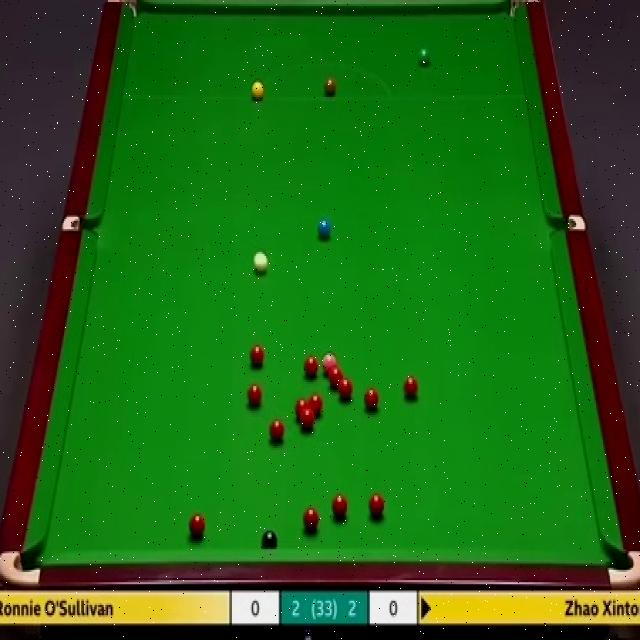black-ball: (263, 530, 281, 549)
blue-ball: (317, 220, 332, 237)
brown-ball: (324, 78, 337, 101)
green-ball: (419, 48, 429, 63)
pink-ball: (322, 353, 337, 373)
red-ball: (332, 491, 348, 520), (303, 507, 320, 533), (308, 393, 324, 420), (188, 513, 205, 538), (405, 375, 419, 401), (370, 494, 385, 518), (250, 344, 264, 369), (300, 409, 315, 431), (271, 421, 285, 444), (248, 384, 260, 409), (303, 356, 317, 376), (295, 399, 309, 419), (328, 366, 342, 386), (364, 390, 379, 408), (339, 380, 351, 402)
white-ball: (253, 252, 268, 274)
yellow-ball: (251, 80, 264, 102)
